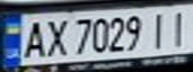0: (90, 14, 112, 54)
2: (106, 14, 127, 54)
7: (69, 15, 93, 56)
9: (124, 11, 148, 52)
A: (18, 17, 48, 60)
I: (163, 7, 193, 47), (145, 9, 172, 50)
X: (42, 16, 69, 57)
